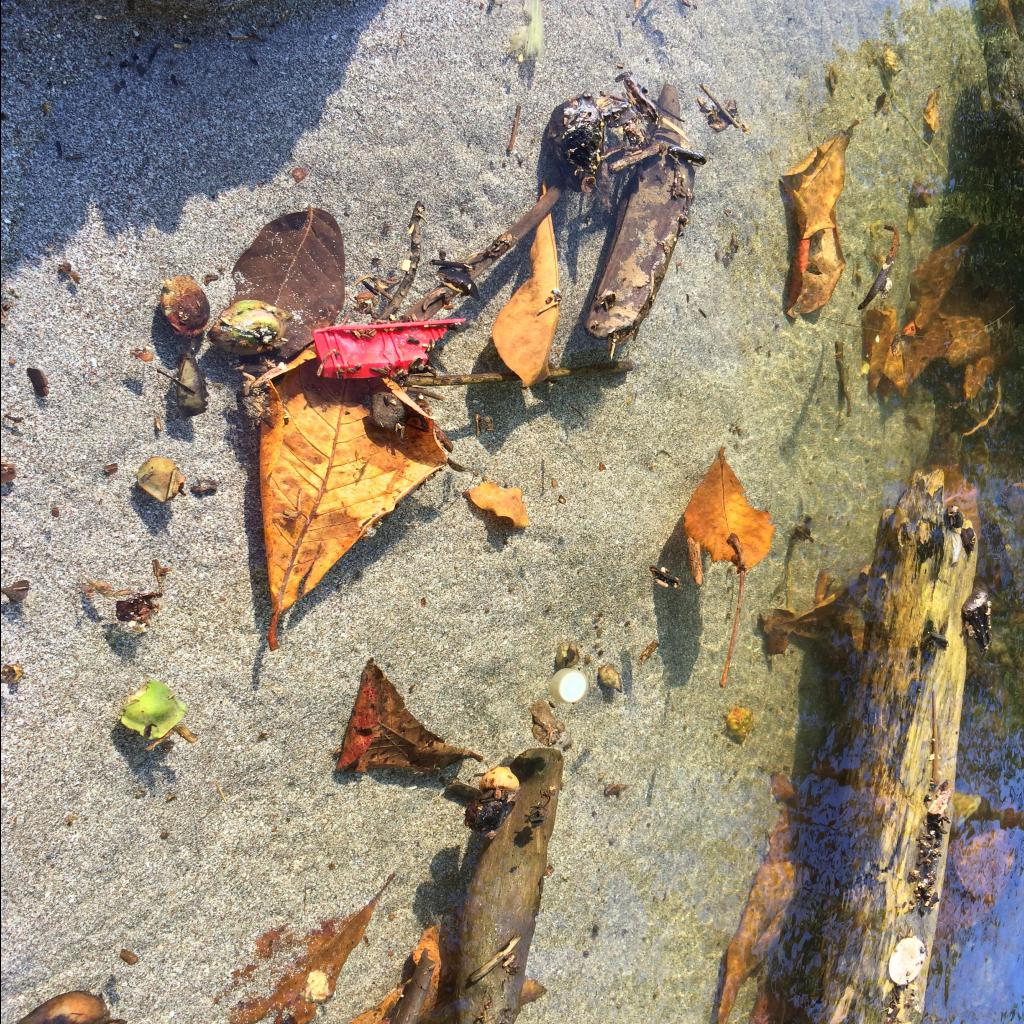Other plastic wrapper: (313, 318, 465, 378)
Plastic bottle cap: (550, 668, 588, 703)
